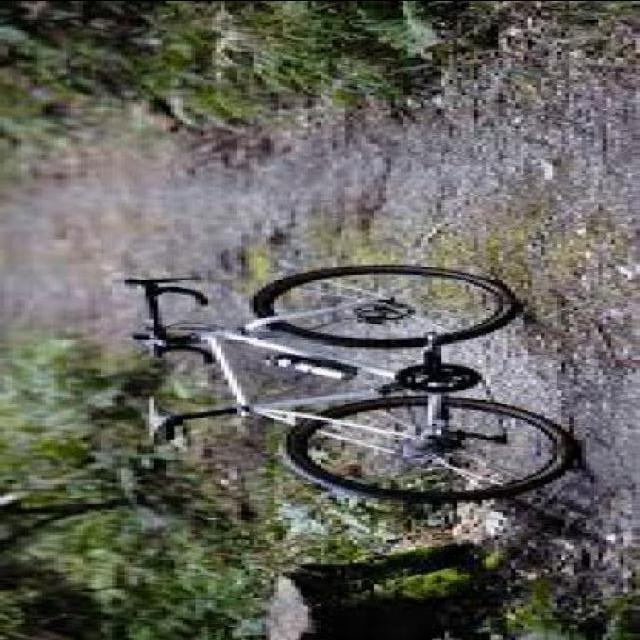bicycle: (114, 238, 590, 512)
